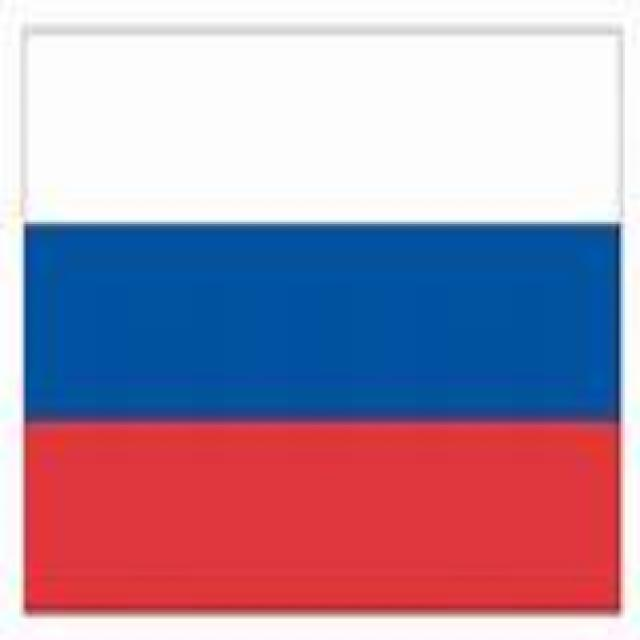russia: (2, 1, 628, 604)
